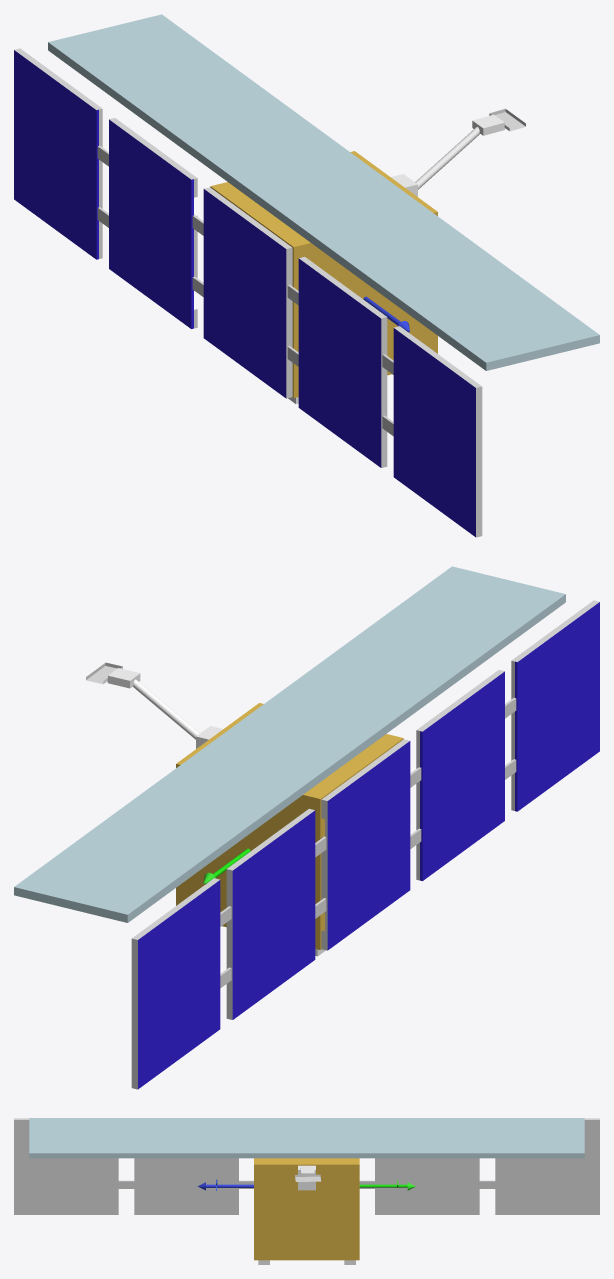
Rendered from Satellite.glb.
3 views of the same model, one above another, from view 1: azimuth 30°, elevation 25°; view 2: azimuth 150°, elevation 25°; view 3: azimuth 270°, elevation 25° (orthographic). The views are drawn at different scales.
Visible parts, largest first — view 1: SOLP, RAD, Plane, Cube, Cube.001, SOLP_connection; view 2: SOLP, RAD, Plane, Cube, Cube.001, SOLP_connection; view 3: Plane, RAD, Cube, SOLP_connection, Cube.001, Cylinder, Cone.002.
Boxes of the visible parts, box(x1,y1,x2,y2) form: SOLP: box(14, 50, 475, 537); RAD: box(48, 14, 599, 370); Plane: box(14, 48, 482, 537); Cube: box(210, 151, 437, 397); Cube.001: box(391, 114, 509, 196); SOLP_connection: box(97, 146, 393, 436); SOLP: box(138, 602, 599, 1089); RAD: box(14, 566, 565, 922); Plane: box(131, 600, 599, 1089); Cube: box(176, 703, 403, 949); Cube.001: box(103, 667, 222, 748); SOLP_connection: box(220, 698, 516, 988); Plane: box(14, 1118, 599, 1214); RAD: box(29, 1118, 584, 1158); Cube: box(254, 1158, 359, 1260); SOLP_connection: box(118, 1180, 495, 1188); Cube.001: box(295, 1165, 320, 1190); Cylinder: box(359, 1182, 415, 1190); Cone.002: box(198, 1182, 253, 1190).
Bounding box in the file's own units: 3.59 × 2.49 × 10.55.
